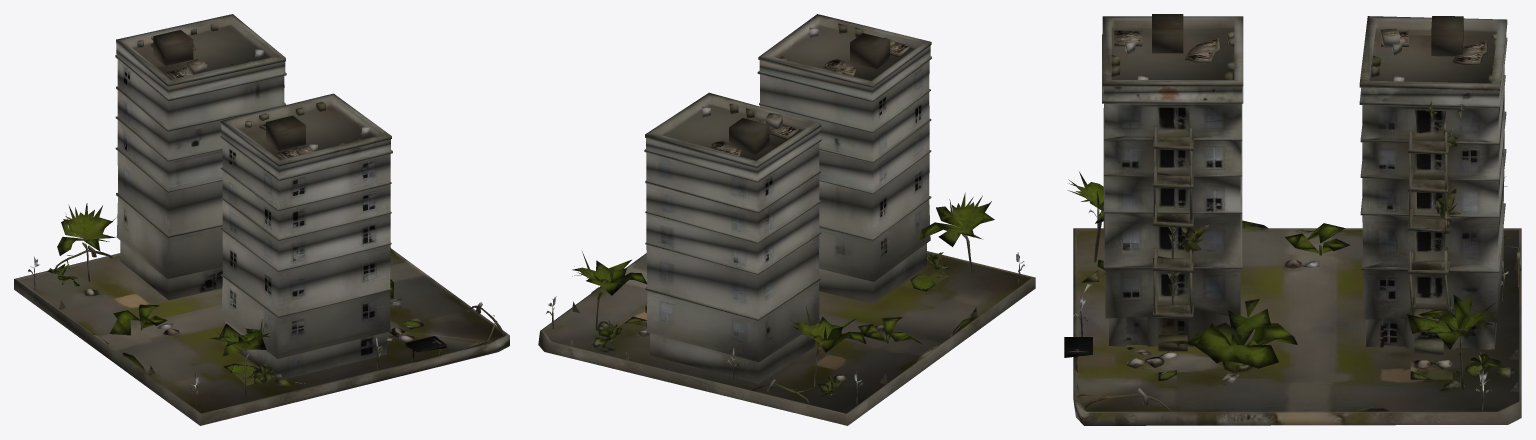
The model's file is abandoned_residential_block.glb.
3 views of the same model, side by side, from view 1: azimuth 30°, elevation 25°; view 2: azimuth 150°, elevation 25°; view 3: azimuth 270°, elevation 25° (orthographic). The views are drawn at different scales.
Visible parts, largest first — view 1: tripo_node_46ccd2cf-0684-4de5-8348-9c600e603ee3; view 2: tripo_node_46ccd2cf-0684-4de5-8348-9c600e603ee3; view 3: tripo_node_46ccd2cf-0684-4de5-8348-9c600e603ee3.
Part boxes in pixels (x1=…): tripo_node_46ccd2cf-0684-4de5-8348-9c600e603ee3: x1=14, y1=14, x2=509, y2=425; tripo_node_46ccd2cf-0684-4de5-8348-9c600e603ee3: x1=538, y1=14, x2=1035, y2=425; tripo_node_46ccd2cf-0684-4de5-8348-9c600e603ee3: x1=1064, y1=14, x2=1521, y2=425.
Size of the model in its own units: 0.9531 by 0.7051 by 0.998.
Materials: 1 (1 with a texture image).
